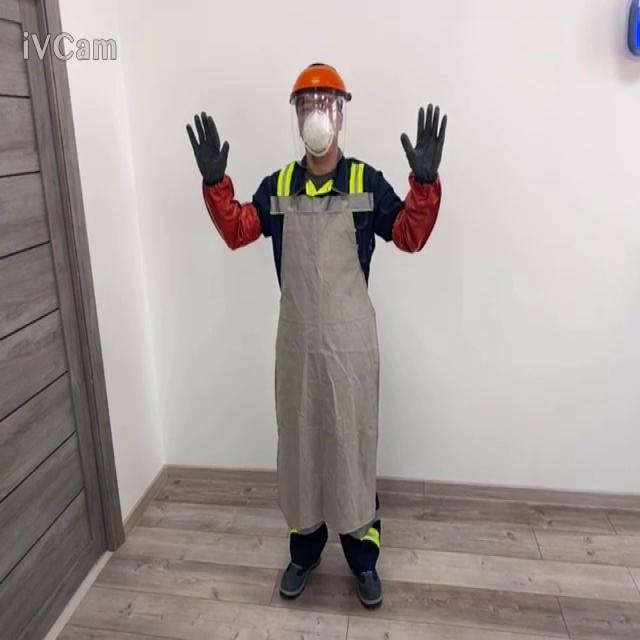Gloves: (400, 103, 447, 184), (185, 110, 229, 186), (626, 0, 639, 56)
Mask: (300, 107, 335, 157)
Protective apron: (269, 161, 380, 536)
Safety Shoes: (278, 555, 320, 597), (353, 567, 382, 605)
Sleeve: (201, 172, 262, 249), (391, 170, 441, 253)
